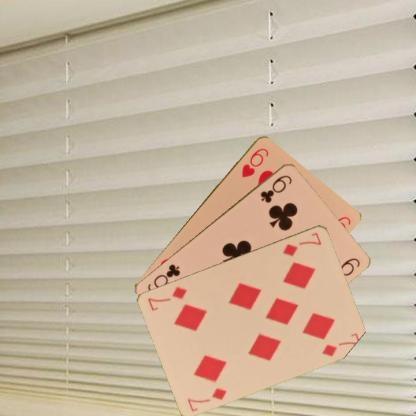6c: (257, 172, 294, 204)
6h: (238, 145, 270, 179)
7d: (184, 384, 228, 413), (280, 229, 323, 258)
